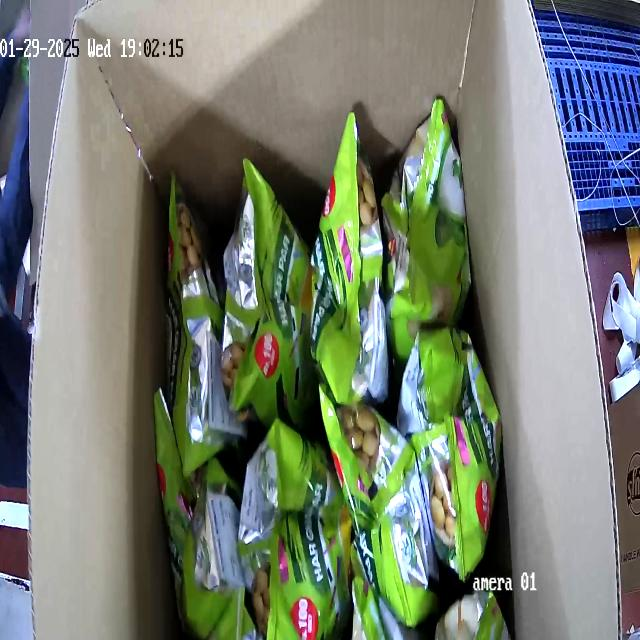YOGURT_HERB: (153, 97, 505, 638)
